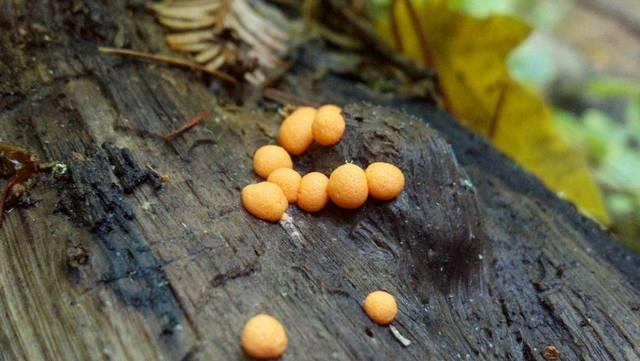Non-edible Mushroom: (240, 102, 406, 222), (239, 312, 288, 358), (240, 180, 288, 222), (327, 161, 368, 209), (277, 105, 315, 154), (365, 160, 405, 200), (311, 103, 345, 146), (251, 143, 292, 177), (296, 170, 329, 212), (361, 289, 398, 325)
